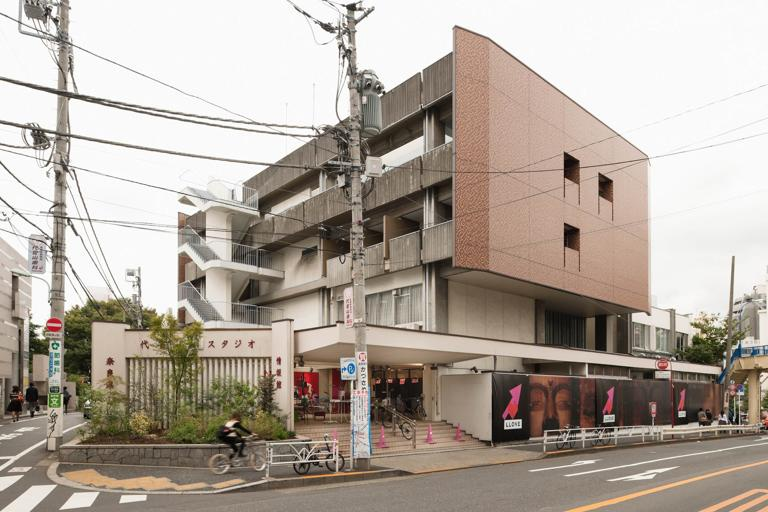non-vehicle: (209, 433, 265, 473), (293, 432, 345, 474), (382, 406, 414, 440), (399, 392, 425, 419), (589, 422, 611, 446), (555, 423, 576, 448)
